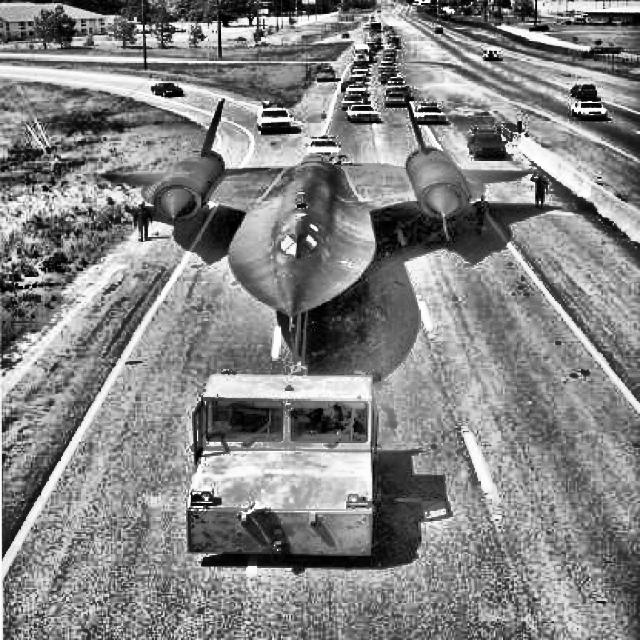SR71: (100, 98, 534, 333)
